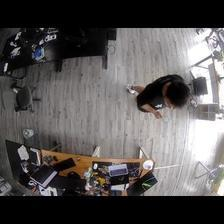normal: (127, 74, 191, 120)
